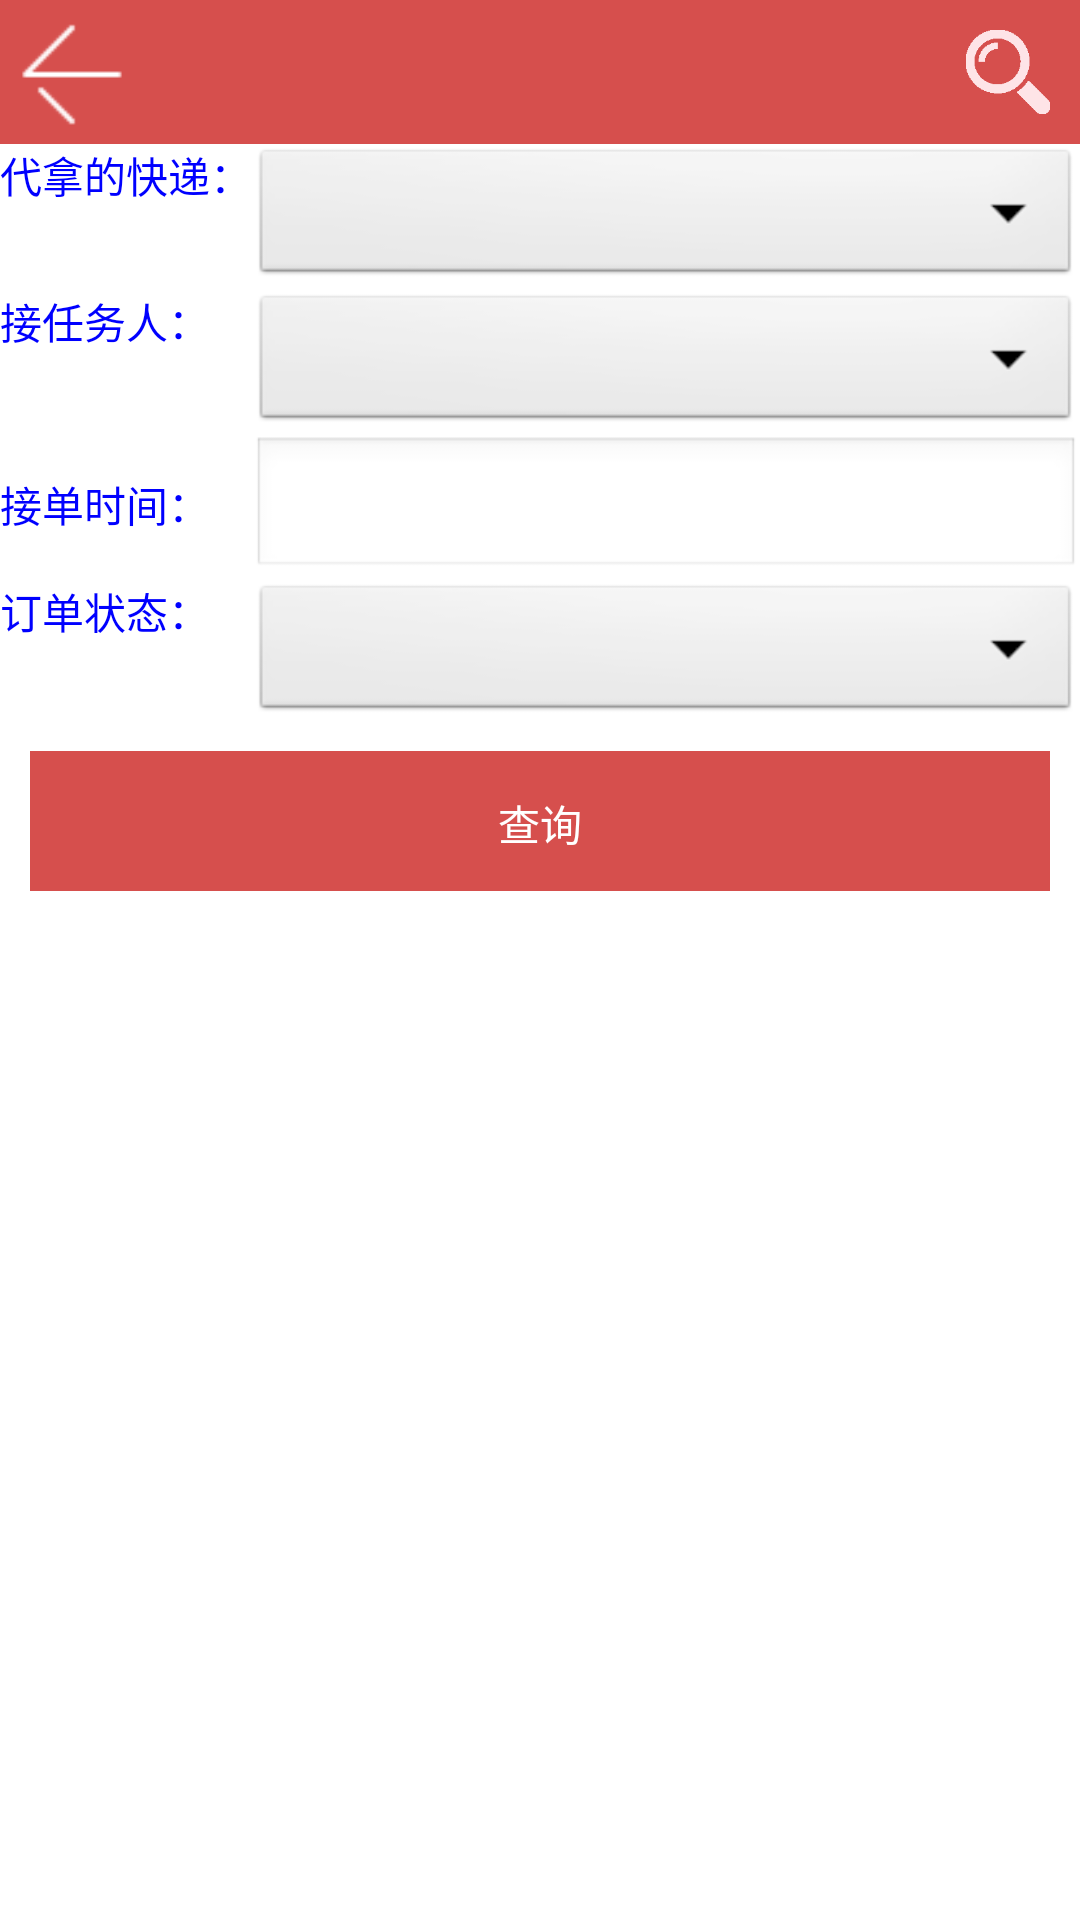

Named icons in this screenshot (1080w x 1920h) and their bounding boxes, rect(x1, y1, x2, y2):
left: rect(22, 25, 122, 125)
search: rect(966, 30, 1050, 114)
